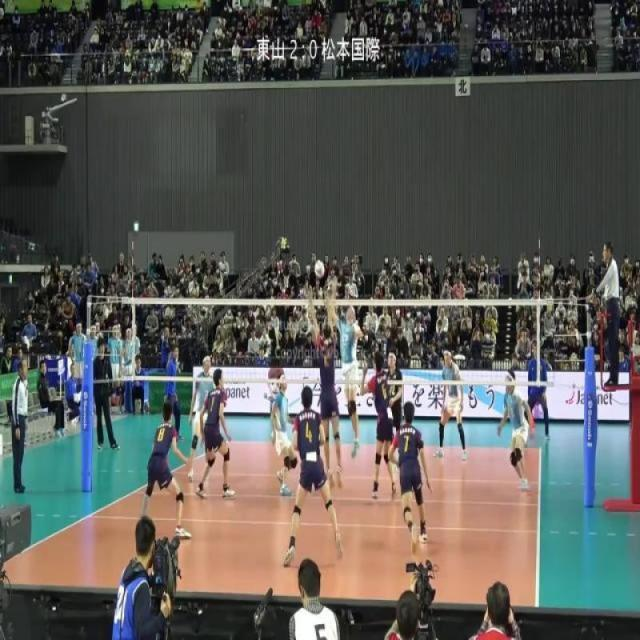volleyball: (314, 259, 325, 279)
